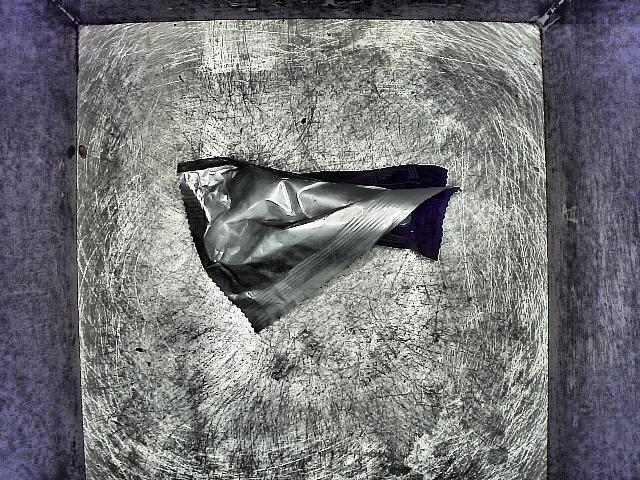Plastic: (174, 142, 466, 337)
